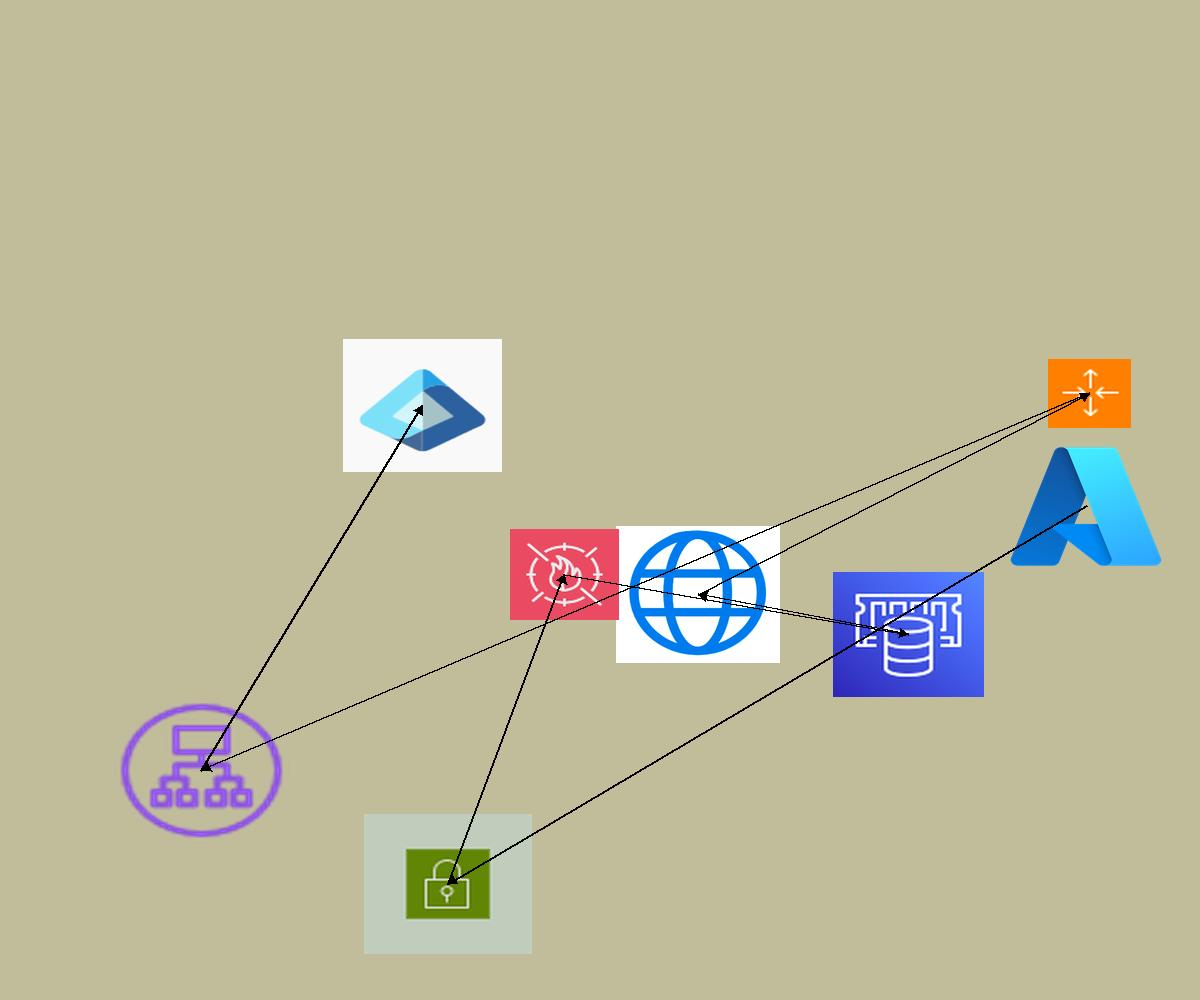AWS-ElastiCache: (833, 572, 984, 697)
AWS-Public-subnet: (364, 814, 532, 954)
AWS-Res_Elastic-Load-Balancing_Application-Load-Balancer: (114, 698, 289, 843)
AWS-Scaling-group: (1048, 359, 1131, 428)
AWS-WAF: (510, 529, 619, 620)
Azure_http: (616, 526, 780, 663)
Azure_microsoft_entra: (343, 339, 502, 472)
Azure_services: (1004, 438, 1168, 575)
